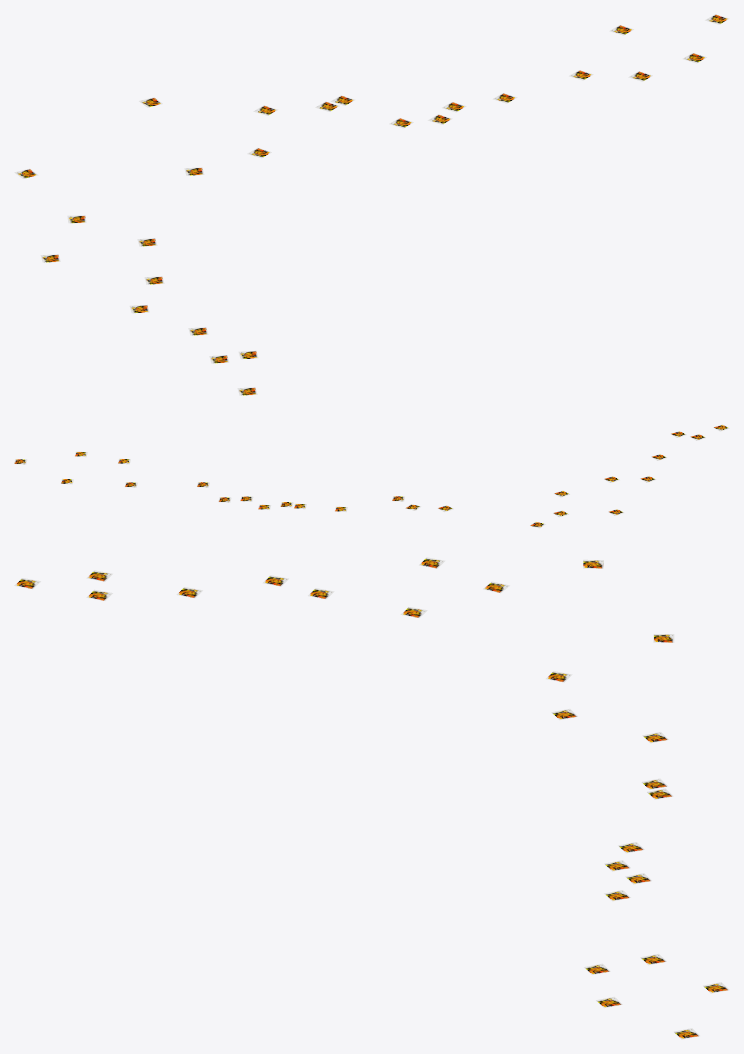
Rendered from SM_Leaf_Lvl2.fbx.
3 views of the same model, one above another, from view 1: azimuth 30°, elevation 25°; view 2: azimuth 150°, elevation 25°; view 3: azimuth 270°, elevation 25° (orthographic). The views are drawn at different scales.
Visible parts, largest first — view 1: polySurface55; view 2: polySurface55; view 3: polySurface55.
Boxes of the visible parts, x1=… form: polySurface55: x1=14, y1=14, x2=729, y2=395; polySurface55: x1=14, y1=424, x2=729, y2=528; polySurface55: x1=14, y1=557, x2=729, y2=1039.
Size of the model in its own units: 154 by 13.5 by 104.
Materials: 1 (1 with a texture image).
